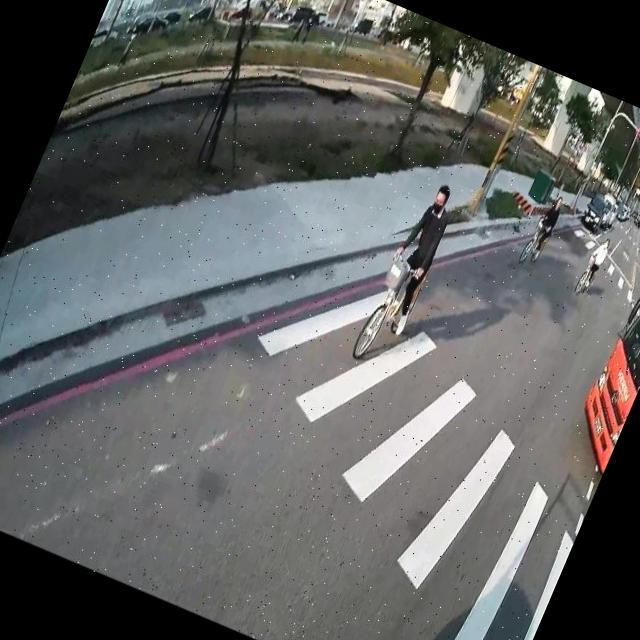person: (363, 172, 465, 337), (524, 192, 568, 264), (576, 231, 614, 290)
